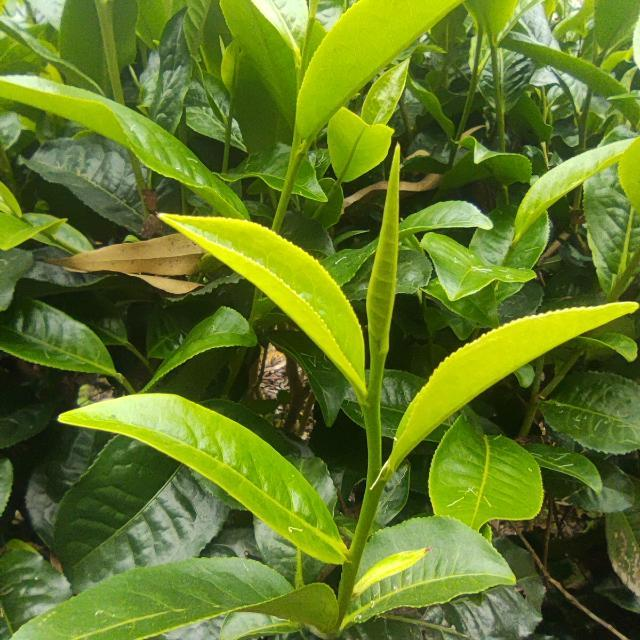Stem: (366, 475, 384, 494)
